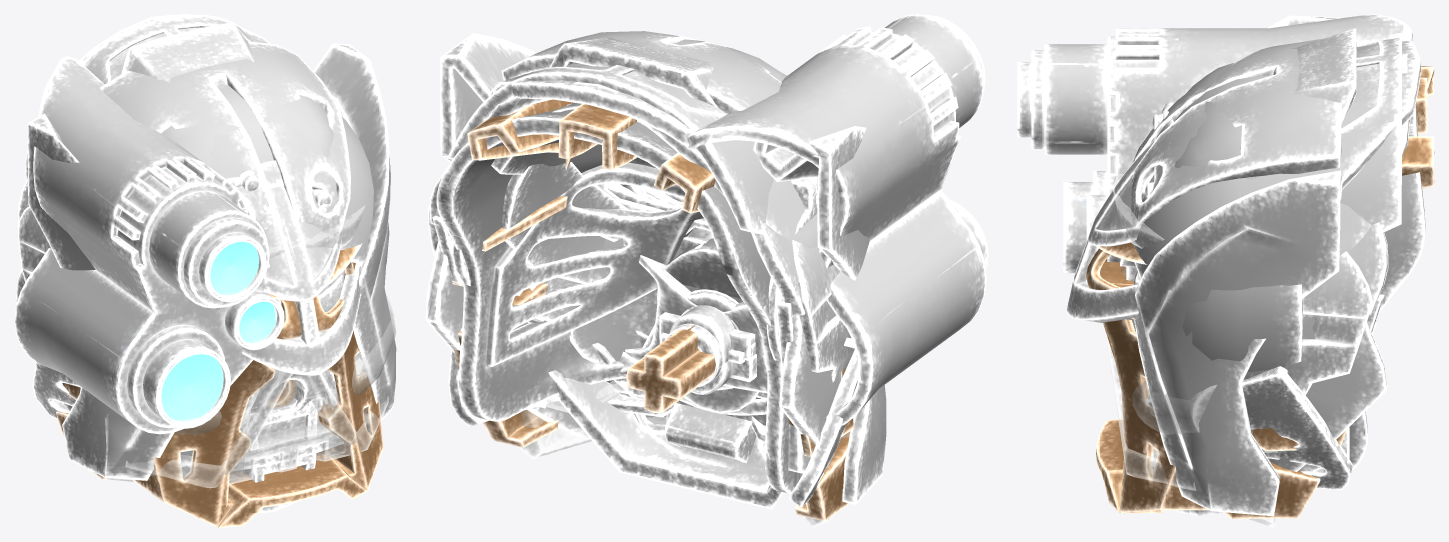
Rendered from masks.glb.
3 renders of one model, left to right at view 1: azimuth 30°, elevation 25°; view 2: azimuth 150°, elevation 25°; view 3: azimuth 270°, elevation 25°, orthographic. The views are drawn at different scales.
Visible parts, largest first — view 1: Akaku, Matatu, Avohkii, Miru, Kaukau, Pakari, Mahiki, Huna, Kakama, Ruru, Rau; view 2: Akaku, Hau, Matatu, Pakari, Avohkii, Miru, Rau, Kakama, Mahiki, Huna, Komau, Kaukau (+1 smaller); view 3: Matatu, Akaku, Avohkii, Miru, Pakari, Kakama, Rau, Kaukau, Hau, Mahiki, Komau.
Part boxes in pixels (left/top/right/bottom): Akaku: left=14, top=14, right=389, bottom=434; Matatu: left=27, top=41, right=396, bottom=480; Avohkii: left=56, top=243, right=383, bottom=527; Miru: left=62, top=15, right=360, bottom=466; Kaukau: left=87, top=189, right=396, bottom=488; Pakari: left=17, top=22, right=254, bottom=282; Mahiki: left=162, top=84, right=333, bottom=206; Huna: left=244, top=398, right=317, bottom=482; Kakama: left=32, top=358, right=363, bottom=419; Ruru: left=254, top=270, right=358, bottom=417; Rau: left=15, top=268, right=322, bottom=513; Akaku: left=489, top=14, right=988, bottom=425; Hau: left=436, top=102, right=802, bottom=493; Matatu: left=440, top=31, right=886, bottom=504; Pakari: left=427, top=37, right=854, bottom=509; Avohkii: left=452, top=99, right=853, bottom=521; Miru: left=447, top=65, right=810, bottom=473; Rau: left=425, top=82, right=842, bottom=467; Kakama: left=448, top=162, right=858, bottom=507; Mahiki: left=451, top=39, right=817, bottom=413; Huna: left=491, top=103, right=756, bottom=463; Komau: left=429, top=170, right=805, bottom=364; Kaukau: left=517, top=307, right=849, bottom=527; Matatu: left=1120, top=15, right=1342, bottom=516; Akaku: left=1017, top=14, right=1421, bottom=372; Avohkii: left=1086, top=66, right=1434, bottom=519; Miru: left=1066, top=37, right=1401, bottom=471; Pakari: left=1243, top=28, right=1372, bottom=395; Kakama: left=1145, top=366, right=1352, bottom=489; Rau: left=1176, top=53, right=1410, bottom=515; Kaukau: left=1104, top=174, right=1277, bottom=527; Hau: left=1349, top=105, right=1425, bottom=469; Mahiki: left=1145, top=62, right=1377, bottom=334; Komau: left=1348, top=222, right=1388, bottom=332.
Bounding box in the file's own units: 3.71 × 4.18 × 3.6.
